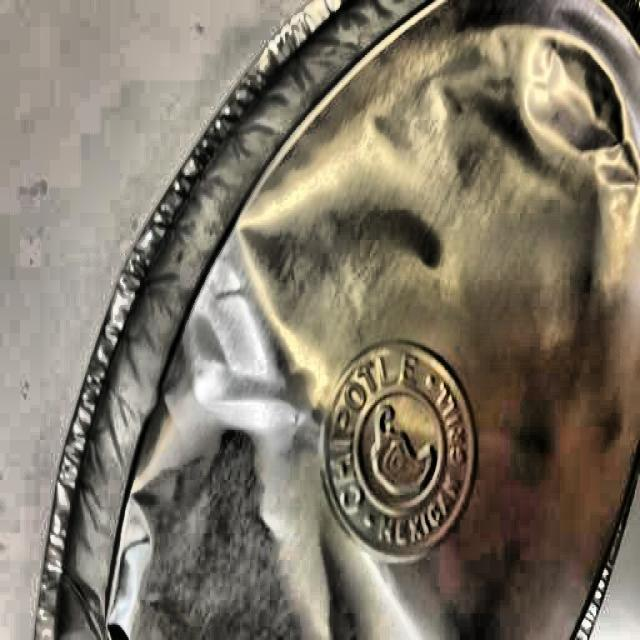metal: (38, 6, 639, 640)
